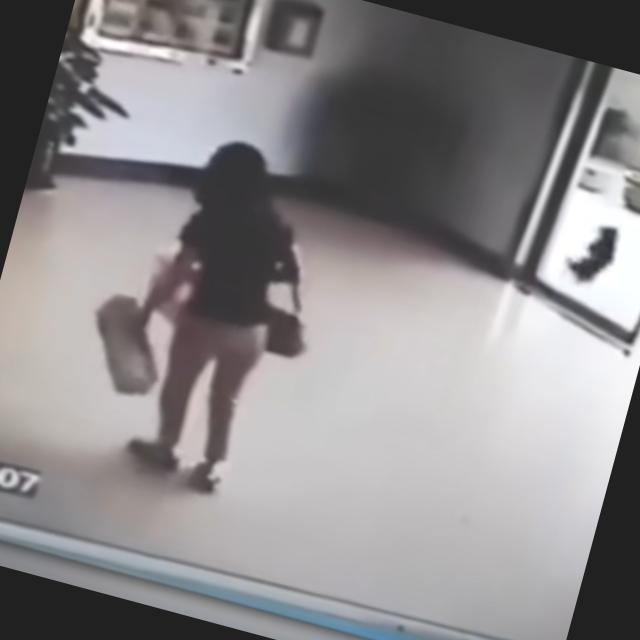person: (98, 126, 352, 505)
